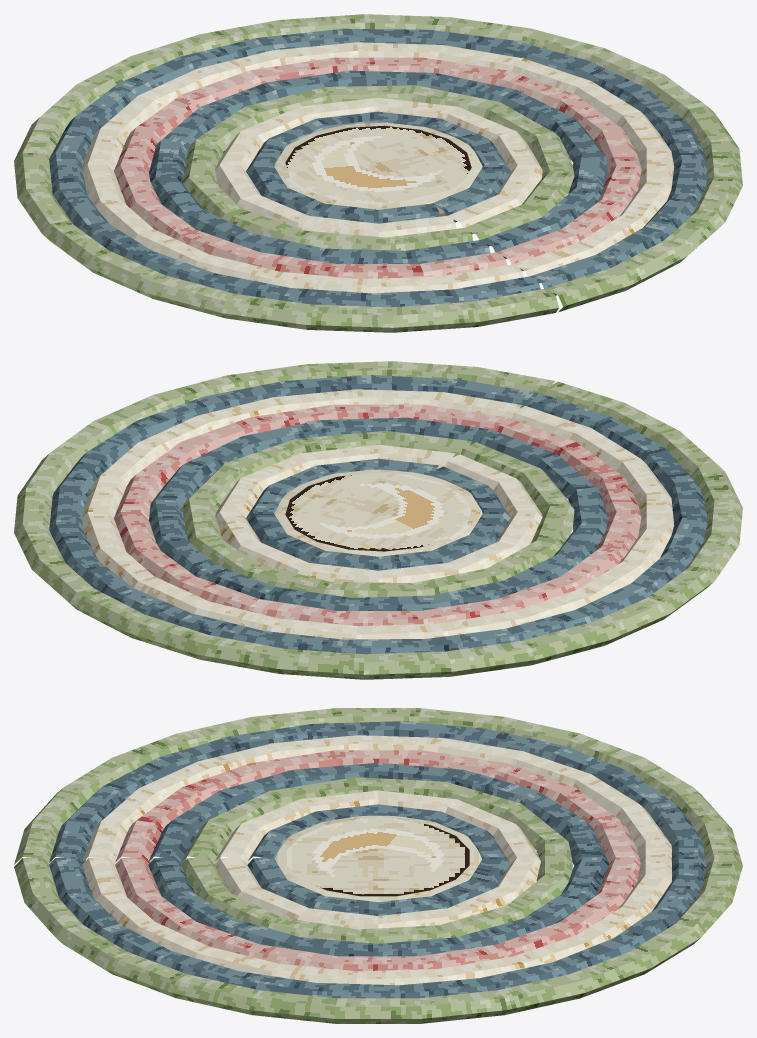
File: roundrug.glb
3 renders of one model, top to bottom at view 1: azimuth 30°, elevation 25°; view 2: azimuth 150°, elevation 25°; view 3: azimuth 270°, elevation 25°, orthographic.
Visible parts, largest first — view 1: coil7, coil6, coil5, coil4, coil3, coil2, coil1, centre, coil0, applique; view 2: coil7, coil6, coil5, coil4, coil3, coil2, coil1, centre, coil0, applique; view 3: coil7, coil6, coil5, coil4, coil3, coil2, coil1, centre, coil0, applique.
Part boxes in pixels (left/top/right/bottom): coil7: left=14, top=14, right=742, bottom=332; coil6: left=49, top=29, right=707, bottom=307; coil5: left=82, top=42, right=674, bottom=293; coil4: left=114, top=57, right=641, bottom=279; coil3: left=149, top=70, right=607, bottom=263; coil2: left=182, top=85, right=574, bottom=250; coil1: left=215, top=97, right=542, bottom=237; centre: left=274, top=122, right=482, bottom=216; coil0: left=246, top=111, right=510, bottom=223; applique: left=312, top=136, right=442, bottom=192; coil7: left=14, top=361, right=742, bottom=679; coil6: left=49, top=375, right=707, bottom=654; coil5: left=82, top=389, right=674, bottom=639; coil4: left=114, top=404, right=641, bottom=626; coil3: left=149, top=417, right=607, bottom=610; coil2: left=182, top=431, right=574, bottom=597; coil1: left=215, top=444, right=542, bottom=583; centre: left=274, top=469, right=482, bottom=556; coil0: left=246, top=458, right=510, bottom=570; applique: left=319, top=482, right=445, bottom=539; coil7: left=14, top=708, right=742, bottom=1023; coil6: left=49, top=721, right=706, bottom=998; coil5: left=82, top=735, right=671, bottom=985; coil4: left=115, top=750, right=640, bottom=971; coil3: left=148, top=762, right=608, bottom=956; coil2: left=181, top=777, right=572, bottom=943; coil1: left=214, top=790, right=540, bottom=929; centre: left=275, top=815, right=482, bottom=901; coil0: left=247, top=804, right=510, bottom=915; applique: left=312, top=828, right=444, bottom=876.
Size of the model in its own units: 1.49 by 0.0413 by 1.5.
Materials: 2 (2 with a texture image).
